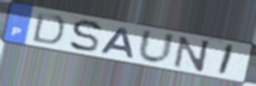A: (99, 27, 137, 60)
D: (30, 10, 67, 46)
I: (216, 43, 237, 77)
N: (171, 35, 212, 73)
S: (68, 19, 104, 54)
U: (136, 27, 178, 66)
